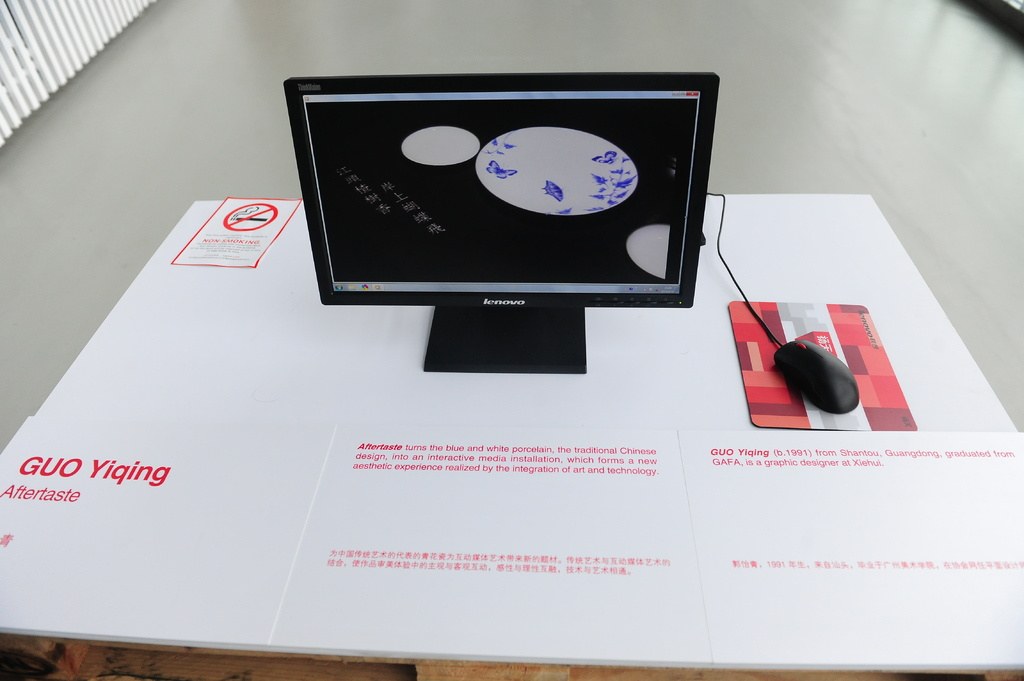plate: (472, 115, 632, 234), (407, 116, 480, 171)
